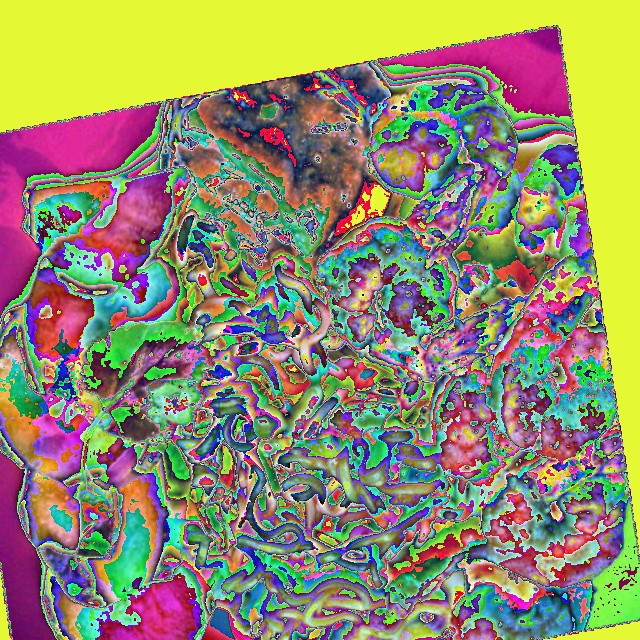background: (0, 62, 630, 639)
